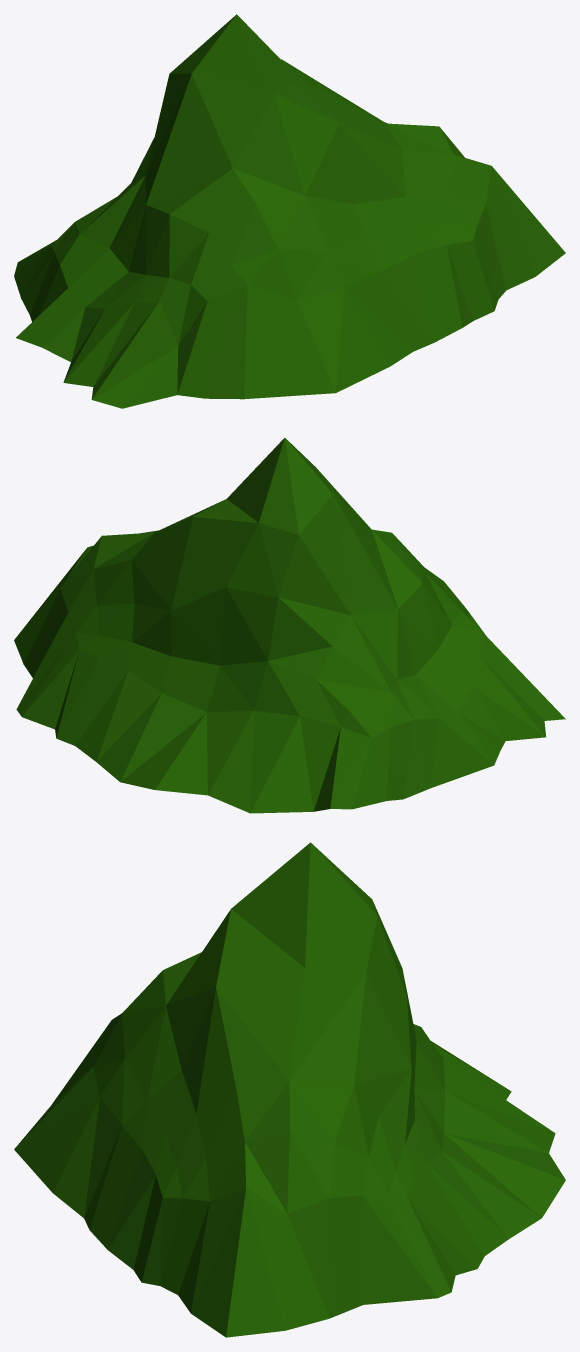
File: mountain.fbx
3 renders of one model, top to bottom at view 1: azimuth 30°, elevation 25°; view 2: azimuth 150°, elevation 25°; view 3: azimuth 270°, elevation 25°, orthographic. The views are drawn at different scales.
Parts seen in each view (by area): view 1: pPlane1; view 2: pPlane1; view 3: pPlane1.
Boxes of the visible parts, left/top/right/bottom form: pPlane1: left=14, top=14, right=565, bottom=408; pPlane1: left=14, top=438, right=565, bottom=813; pPlane1: left=14, top=842, right=565, bottom=1337.
Bounding box in the file's own units: 16.77 × 9.25 × 13.5.
